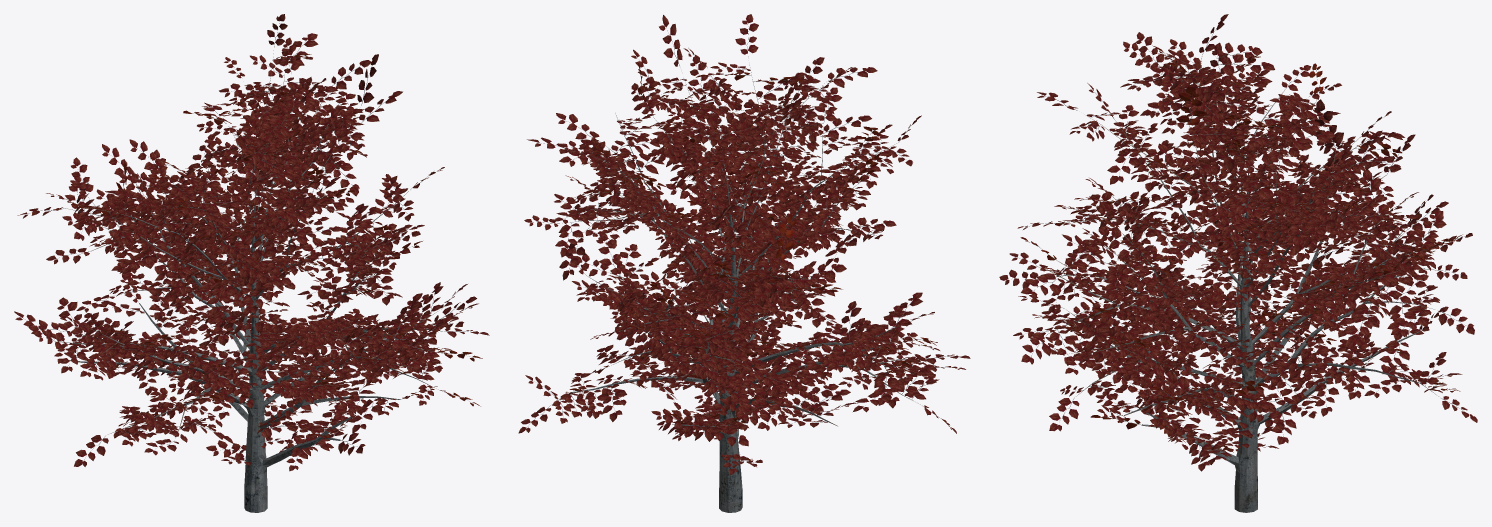
File: copperBeech.obj
3 views of the same model, side by side, from view 1: azimuth 30°, elevation 25°; view 2: azimuth 150°, elevation 25°; view 3: azimuth 270°, elevation 25° (orthographic). The views are drawn at different scales.
Parts seen in each view (by area): view 1: twig.534_tree, tree_tree.002; view 2: twig.534_tree, tree_tree.002; view 3: twig.534_tree, tree_tree.002.
Boxes of the visible parts, bbox=[...] form: twig.534_tree: bbox=[14, 14, 489, 471]; tree_tree.002: bbox=[56, 47, 442, 512]; twig.534_tree: bbox=[518, 14, 970, 474]; tree_tree.002: bbox=[550, 65, 921, 512]; twig.534_tree: bbox=[999, 14, 1477, 471]; tree_tree.002: bbox=[1047, 56, 1438, 512].
Size of the model in its own units: 751 by 800 by 730.
Materials: 3 (3 with a texture image).
